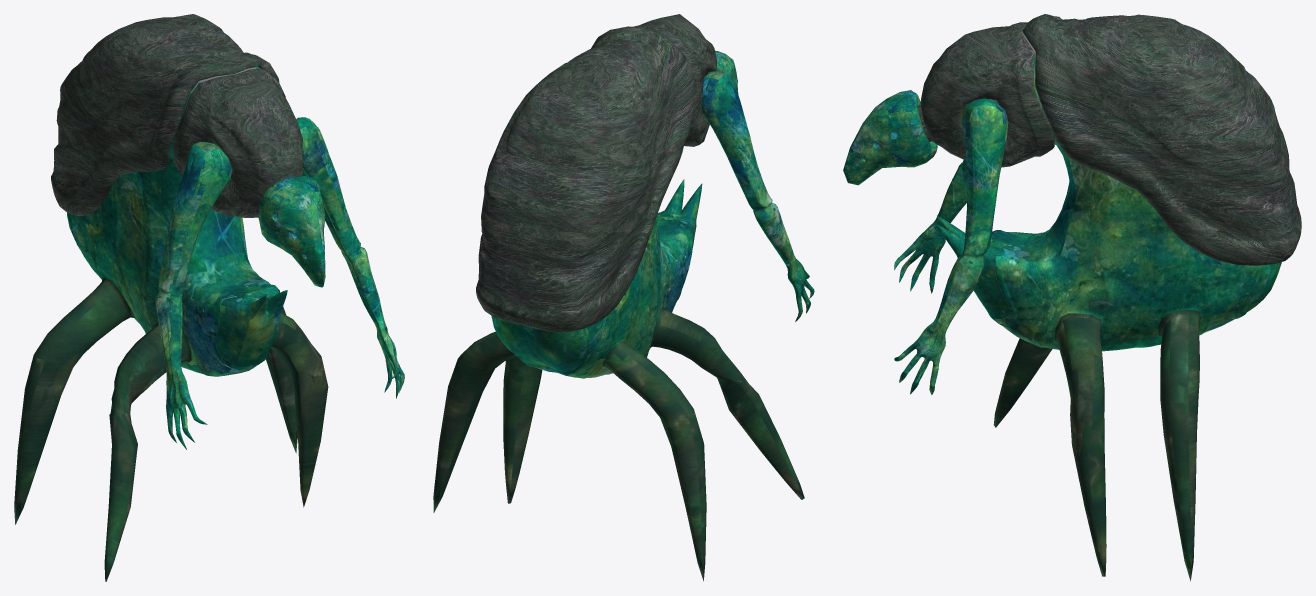
Rendered from Andar.0008.obj.
3 views of the same model, side by side, from view 1: azimuth 30°, elevation 25°; view 2: azimuth 150°, elevation 25°; view 3: azimuth 270°, elevation 25° (orthographic). The views are drawn at different scales.
Parts seen in each view (by area): view 1: pCube14; view 2: pCube14; view 3: pCube14.
Part boxes in pixels (box(x1,y1,x2,y2)): pCube14: box(14, 14, 404, 581); pCube14: box(433, 14, 814, 581); pCube14: box(843, 14, 1301, 581).
Size of the model in its own units: 2.39 by 3.92 by 3.26.
5 materials, 4 textured.
